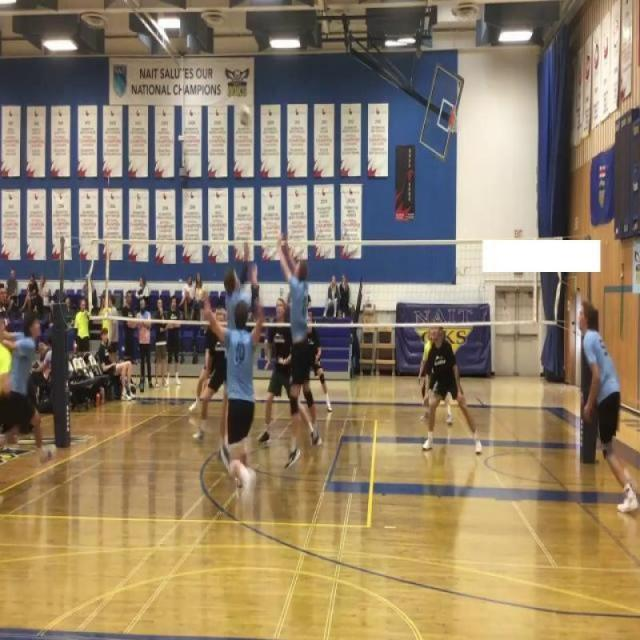volleyball: (240, 104, 250, 126)
